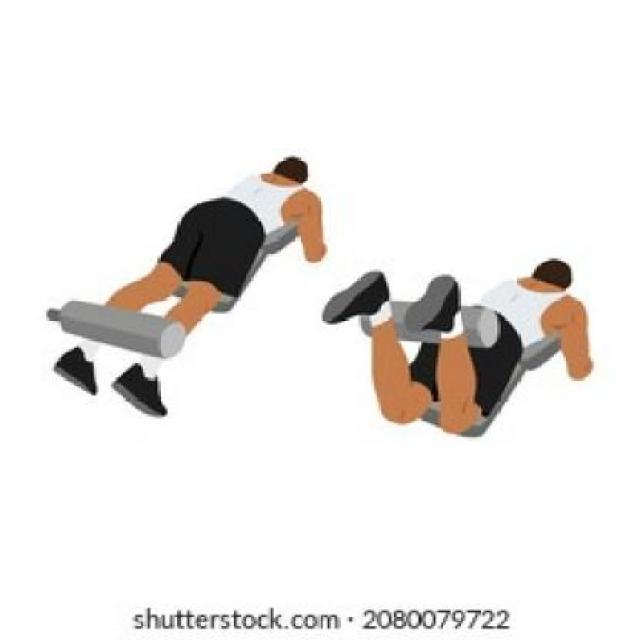reg curl machine: (44, 131, 330, 437), (314, 260, 614, 446)
